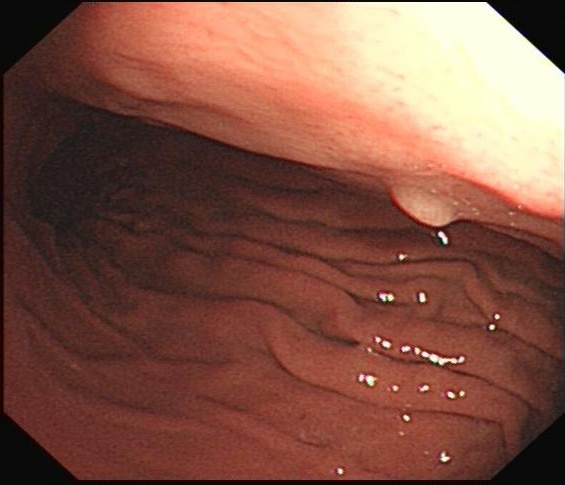Polyp: (369, 186, 468, 238)
